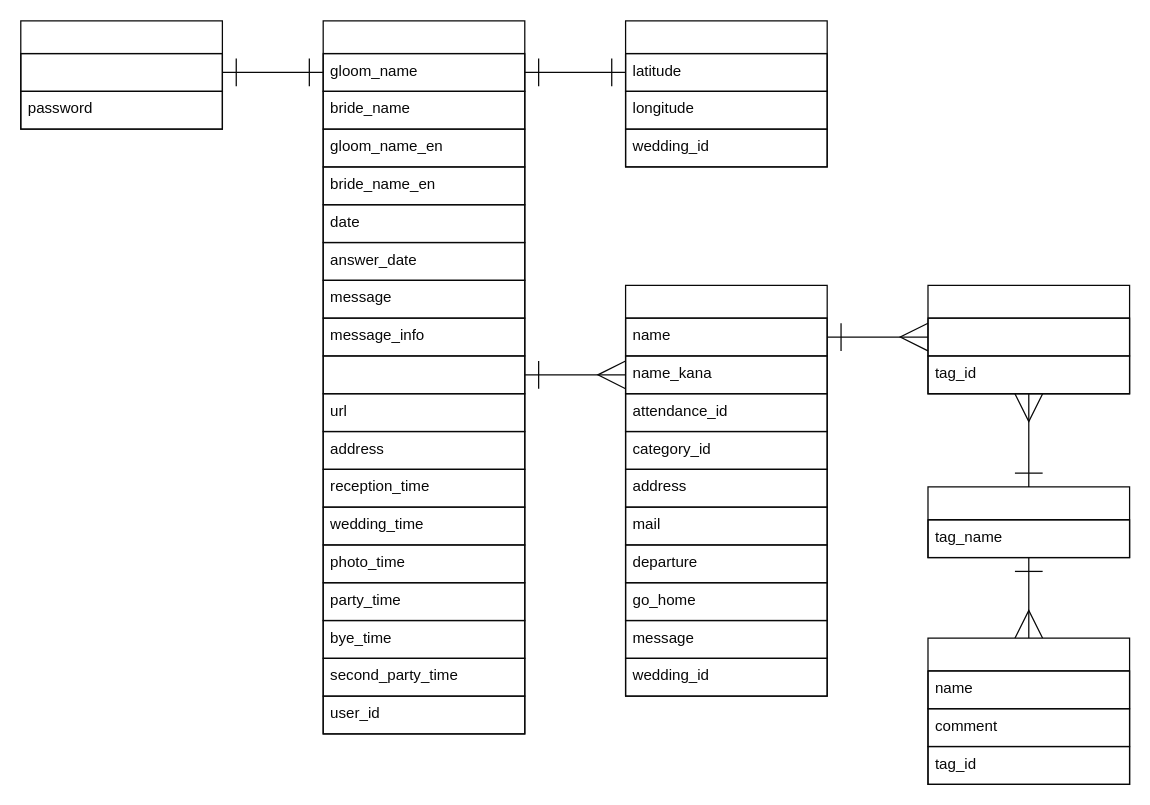
Image size: 1150x805. Some labels were removed from this diagram. Here are the shapes that lost their labels. From the top down, the box of each, then its label:
(20, 52, 222, 91): email
(20, 20, 222, 129): users table
(624, 20, 827, 167): performances
(927, 317, 1130, 356): post_id
(927, 284, 1130, 394): post_tags table
(322, 355, 525, 394): location
(322, 20, 525, 734): weddings table
(624, 284, 827, 696): posts table
(927, 486, 1130, 558): tags table
(927, 637, 1130, 784): comments table
